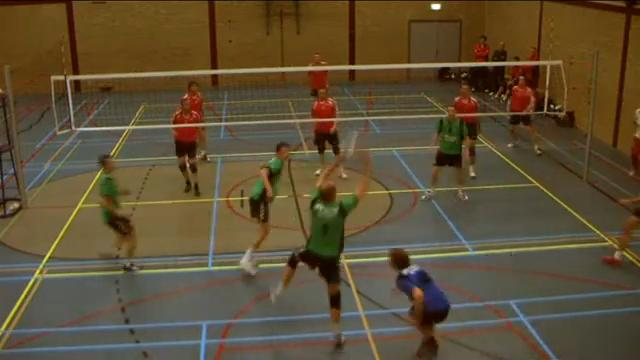Player: (389, 249, 450, 358), (240, 142, 289, 275), (98, 155, 137, 270), (422, 105, 469, 199), (311, 89, 347, 178), (172, 98, 200, 195), (603, 208, 639, 264), (462, 116, 480, 178), (183, 81, 204, 121), (308, 70, 327, 96)
Receive: (269, 144, 375, 344)
